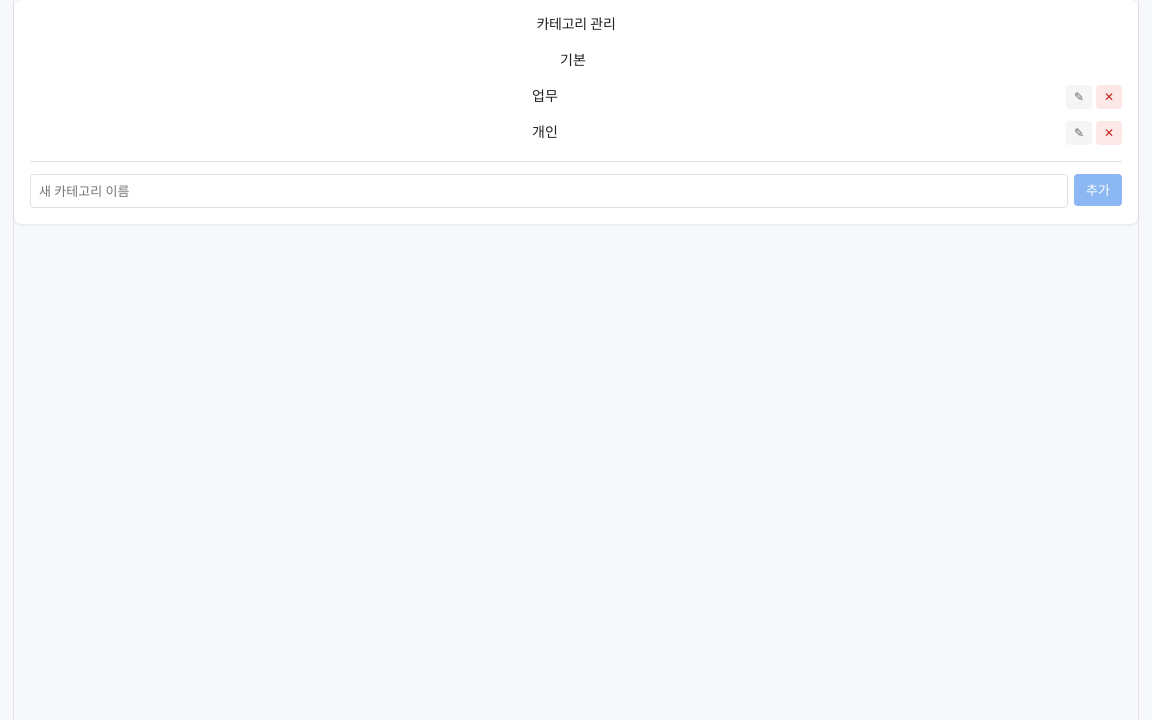
Test: CategoryManager › 수정 버튼 클릭 시 인라인 편집 입력창이 표시된다
The image size is (1152, 720).
Click the button named "업무 수정".
click(1079, 96)  # box [1066,84,1092,108]
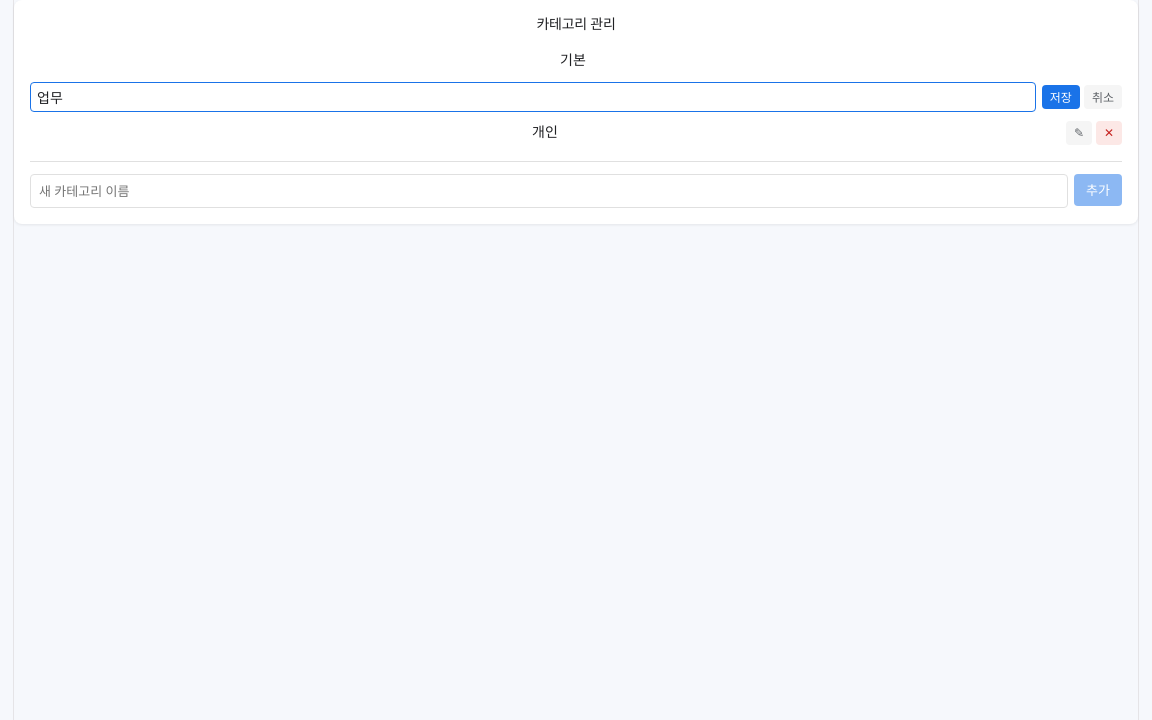
Now the field showing "업무" is shown, box [30,82,1036,112]
Now the button "저장" is shown, box [1042,84,1080,108]
Now the button "취소" is shown, box [1084,84,1122,108]
